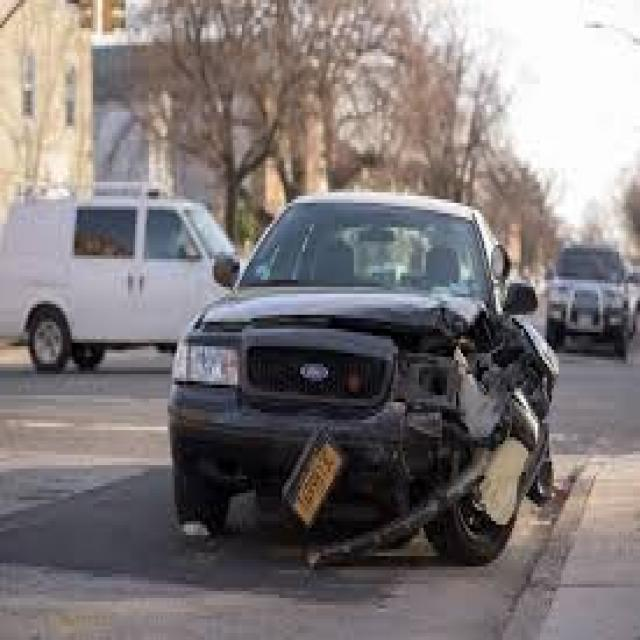accident: (160, 179, 571, 569)
